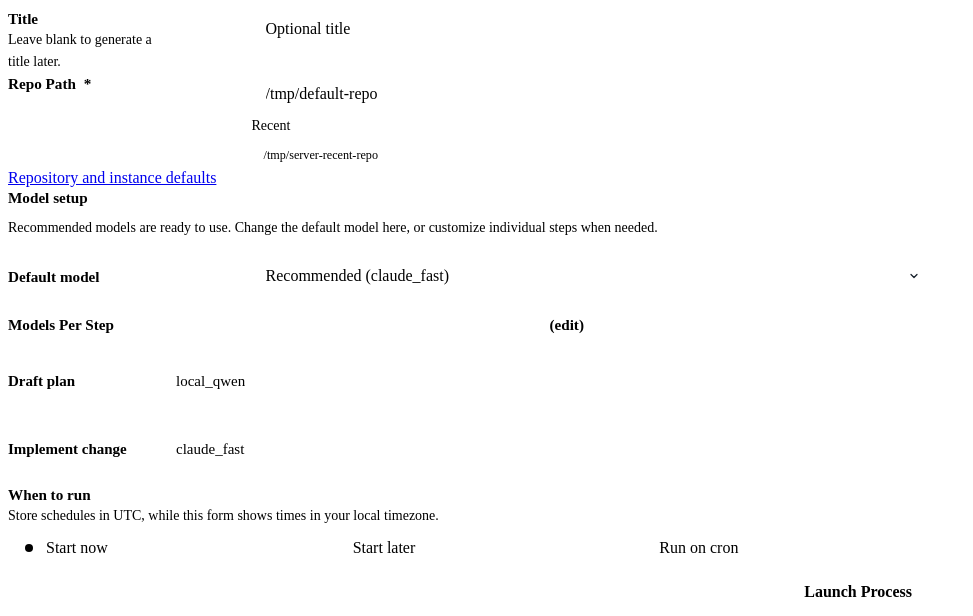
Scenario: GenericLauncher › surfaces server-provided recent values for opted-in text fields
Click the button "/tmp/server-recent-repo": (321, 156) top-left (252, 142), bottom-right (390, 169)
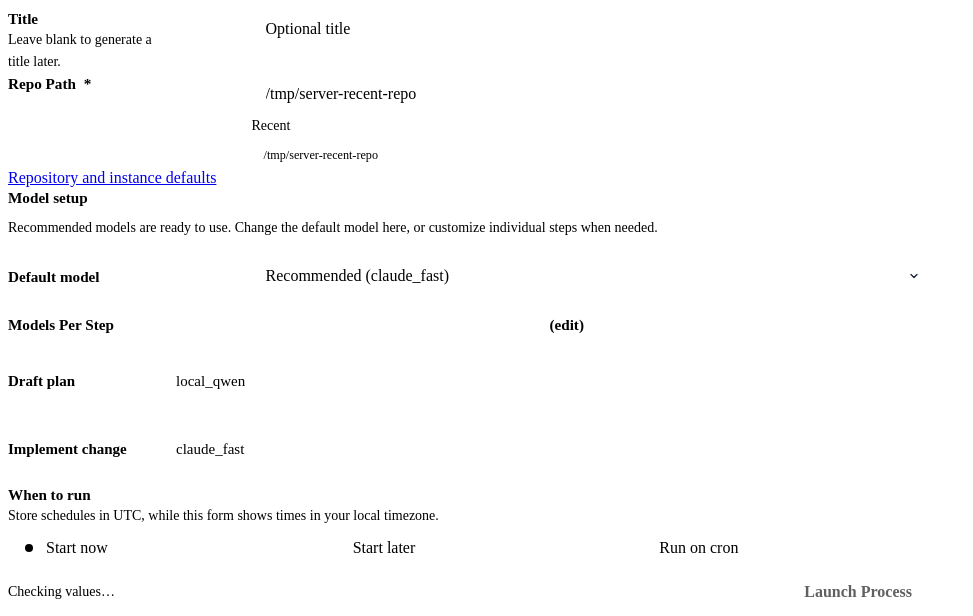
Now the field with id "test-launcher-form-repoPath" holds "/tmp/server-recent-repo", box top-left (252, 73), bottom-right (956, 115)
